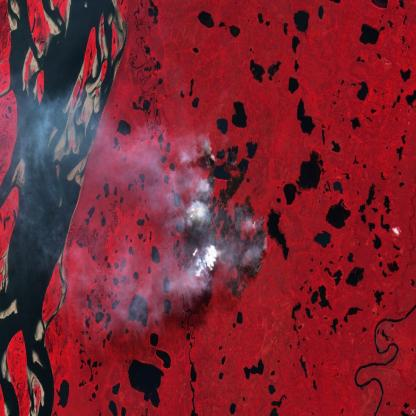fire: (167, 128, 272, 287)
